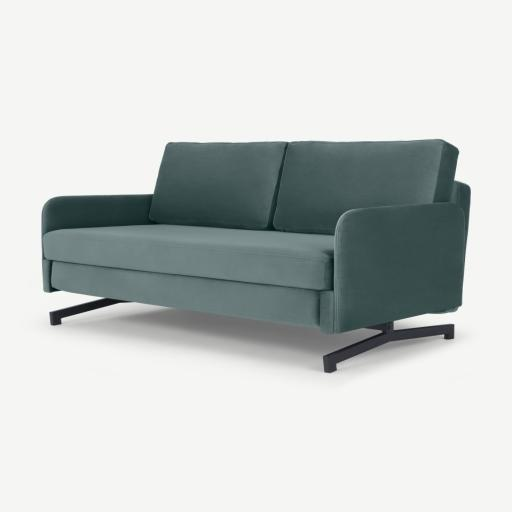back_cushion: (151, 141, 455, 234)
base: (52, 262, 320, 327)
left_arm: (321, 202, 464, 333)
legs: (323, 322, 453, 372), (50, 298, 128, 325)
right_arm: (42, 194, 154, 240), (43, 250, 53, 292)
seat_cushion: (44, 225, 334, 290)
two-seater: (0, 0, 511, 512)
